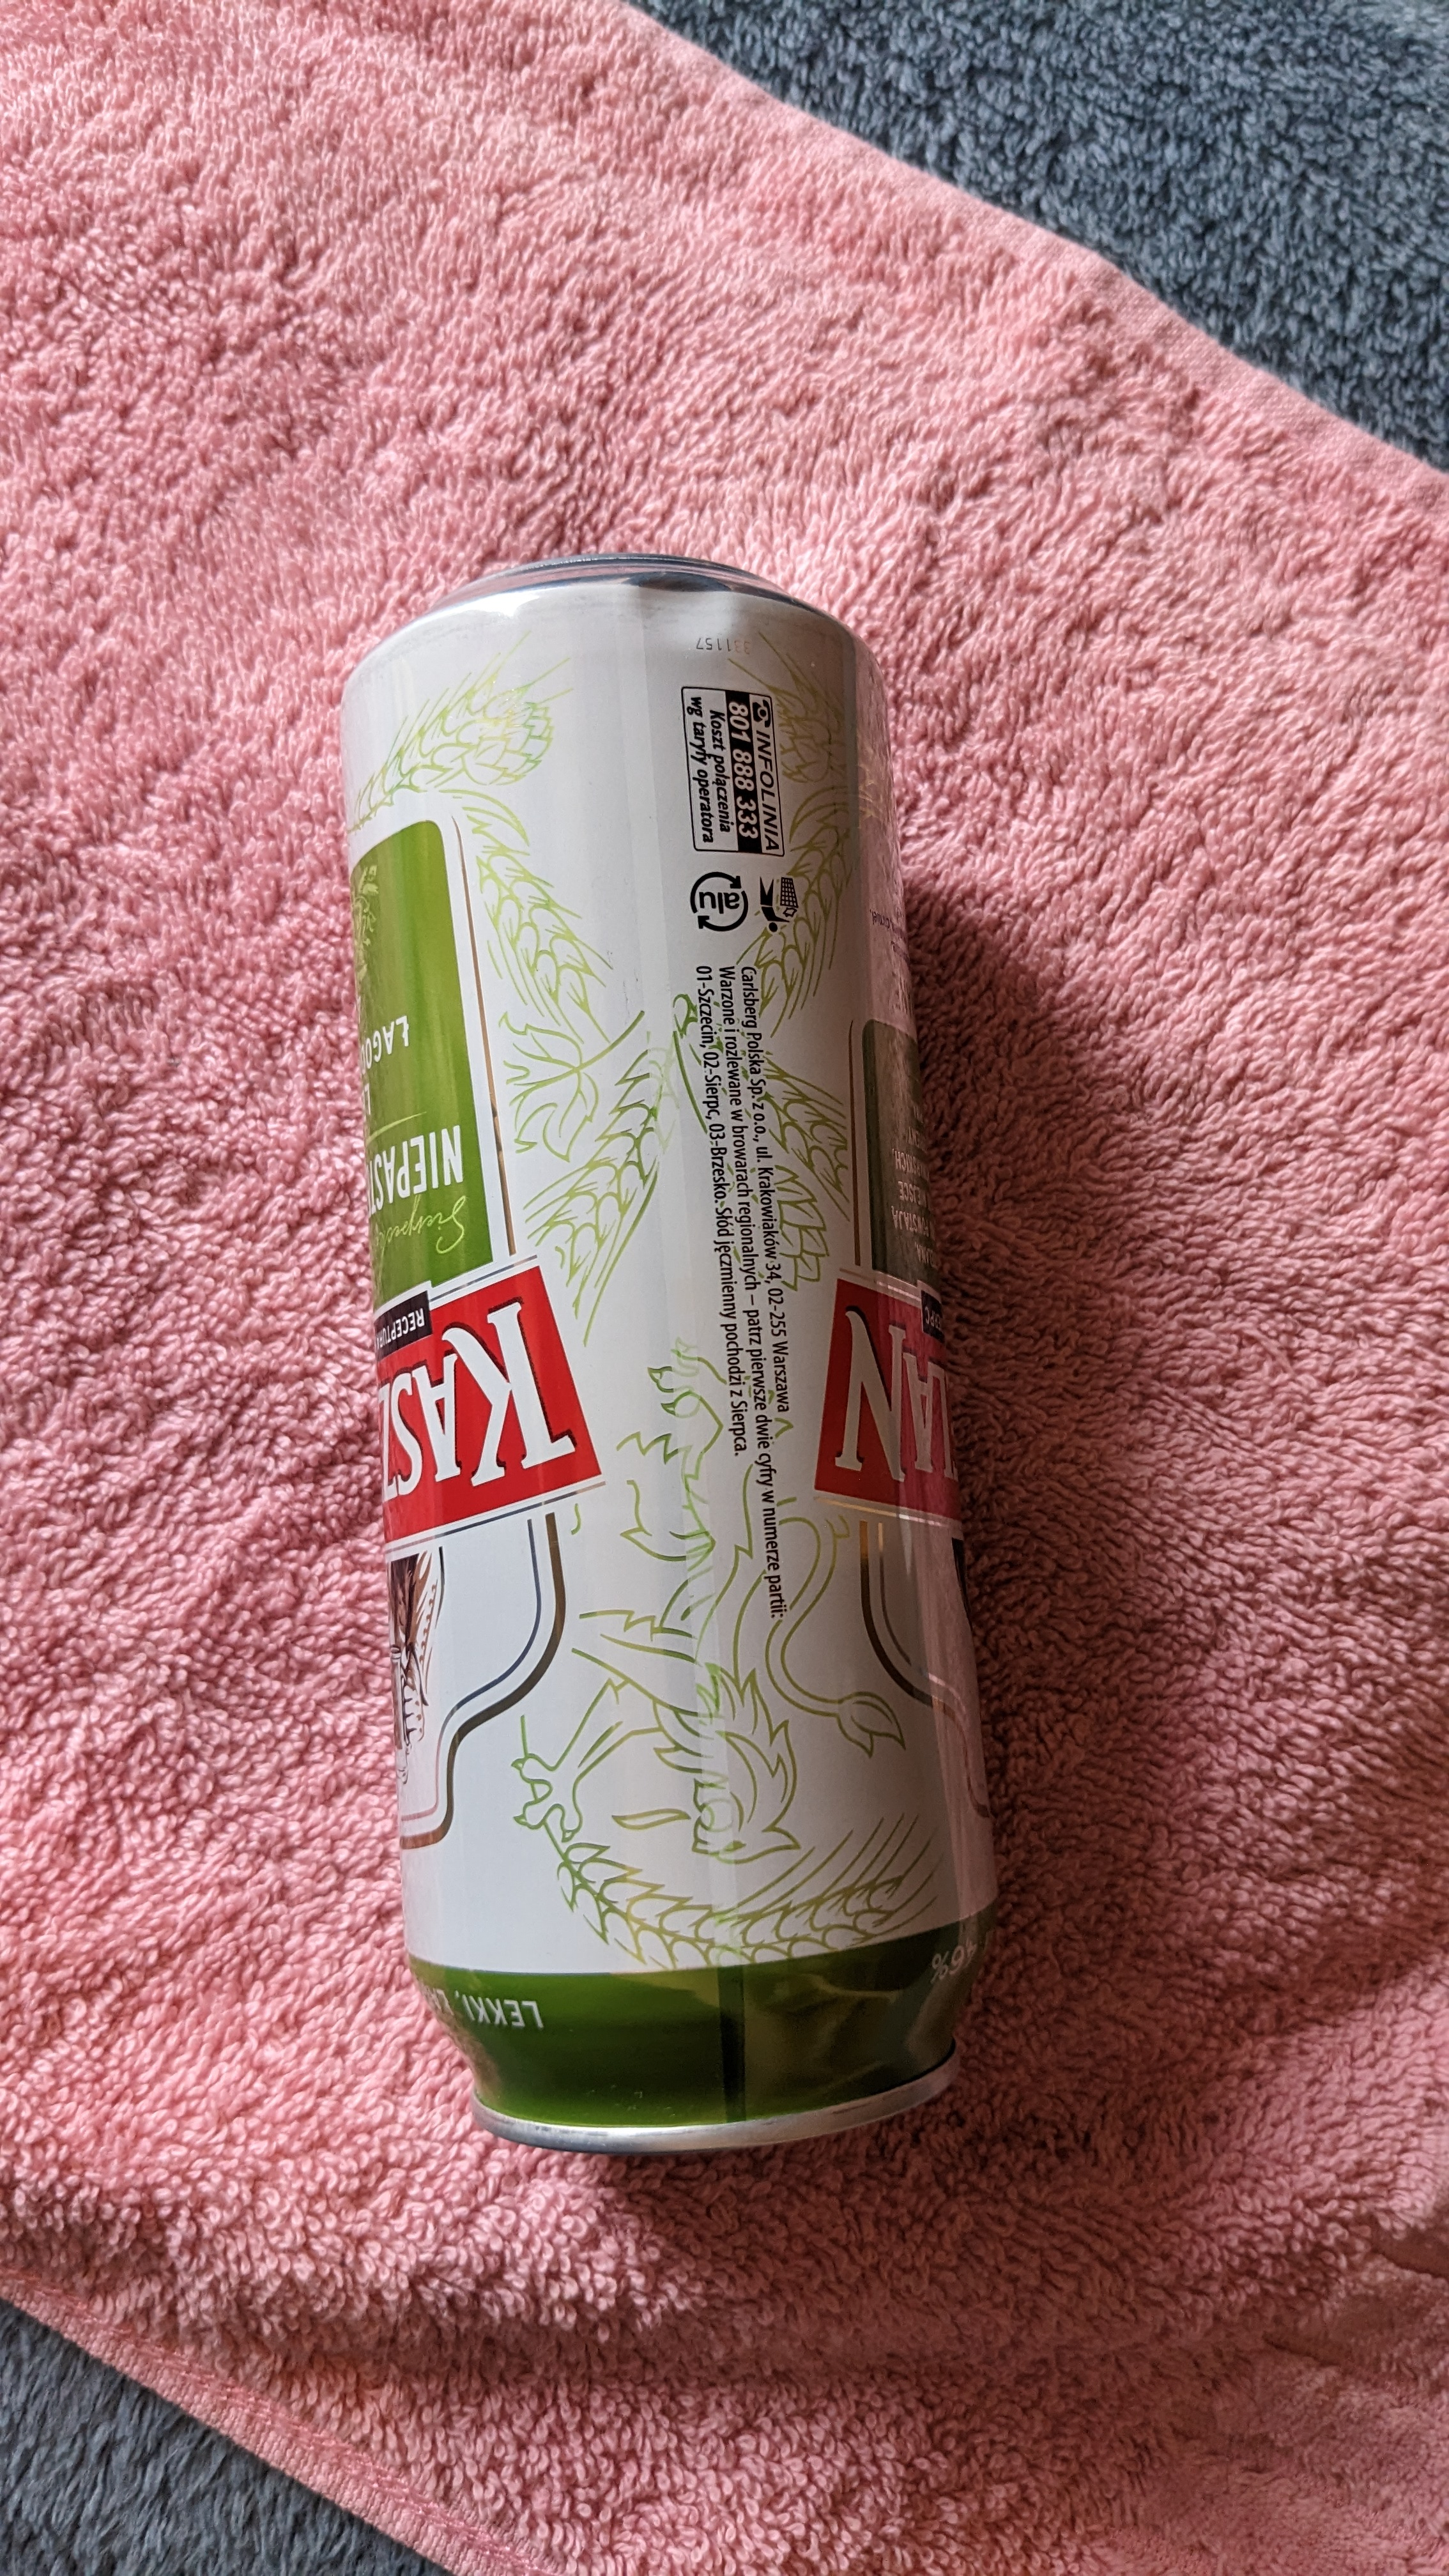kasztelan: (315, 545, 1005, 2166)
